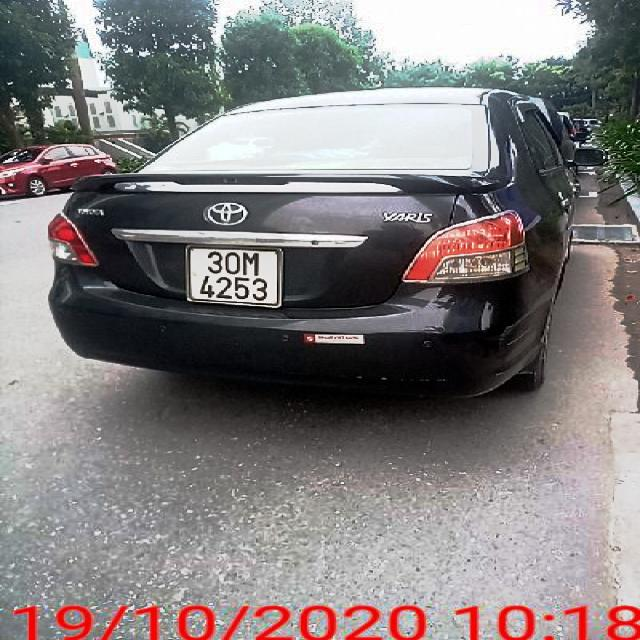license_plate: (187, 246, 277, 306)
